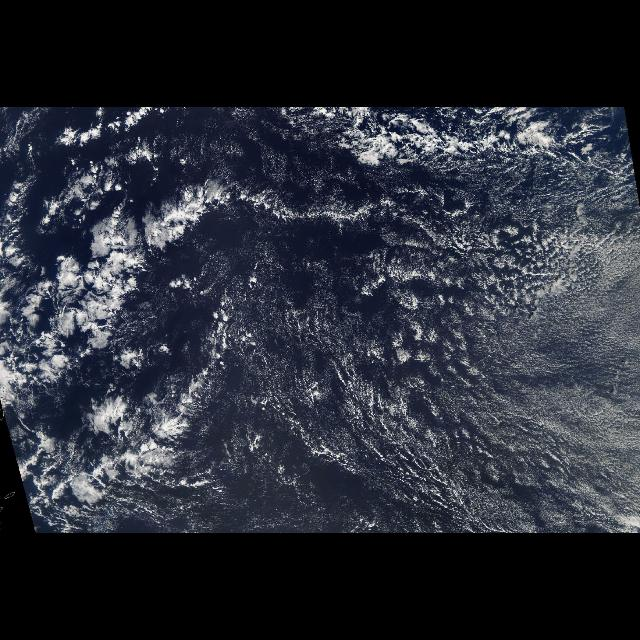Fish: (14, 140, 378, 532)
Flower: (0, 166, 254, 410)
Sugar: (211, 167, 639, 533)
